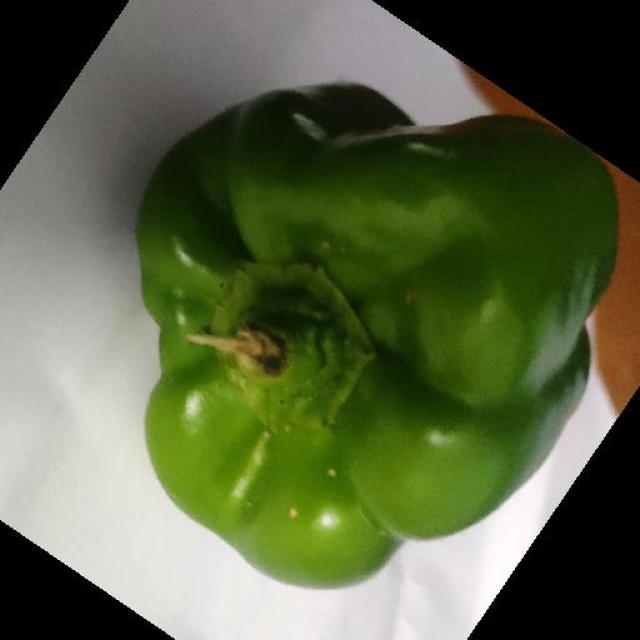Fresh_Capsicum: (217, 192, 484, 520)
